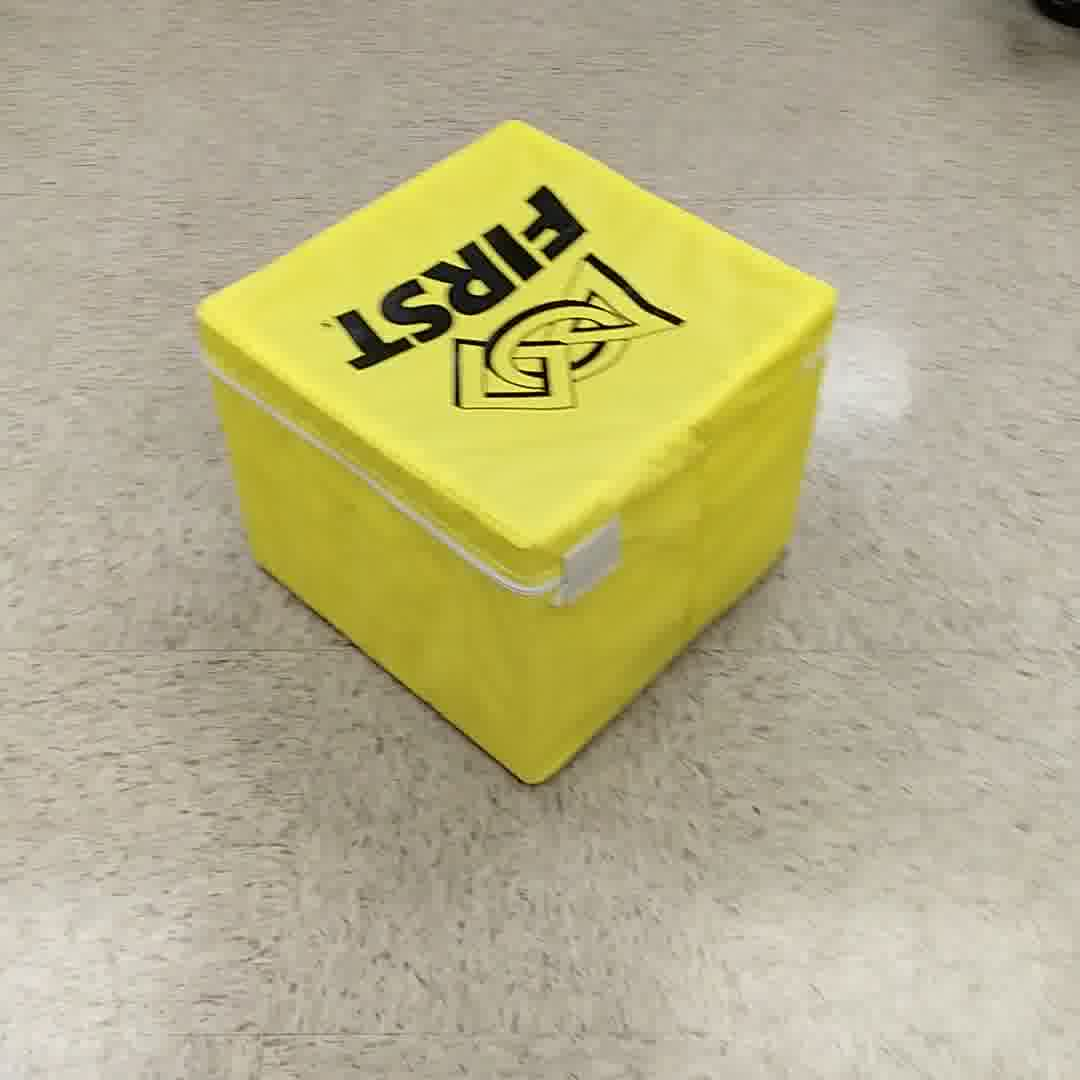box: (181, 119, 845, 788)
